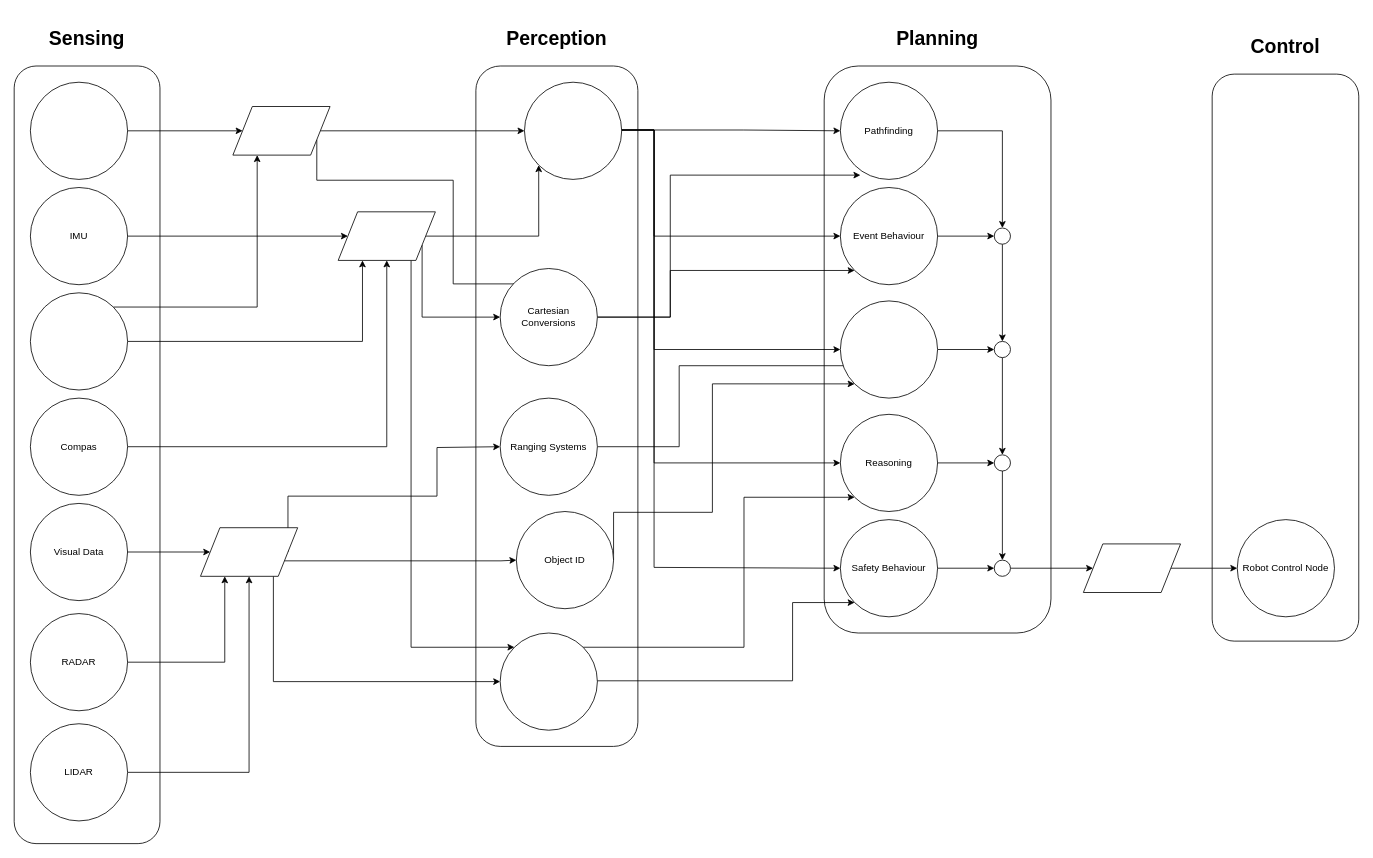
Some shapes in this 1373 by 858 pixel diagram are drawn without their labels. The centre of each missing label's shape, as x and y in pixels:
Command Topic: pixel 1132 568
GPS: pixel 79 130
Image Data: pixel 249 551
Location Data: pixel 281 130
Map Locations and Esitmates: pixel 573 130
Object Tracking: pixel 548 681
Odometry: pixel 79 341
Position Data: pixel 386 235
Threat escalation: pixel 889 349
